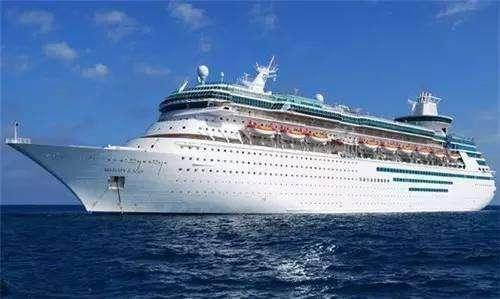youlun: (5, 61, 497, 212)
